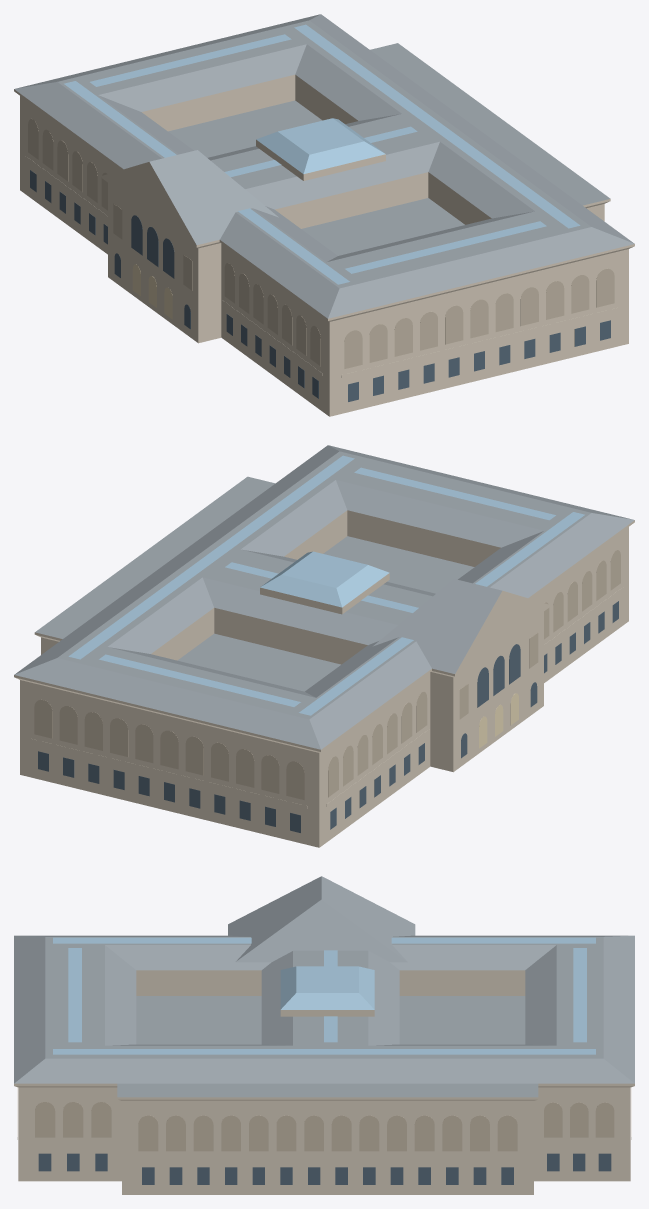
The model's file is chi-art-institute.glb.
The picture shows the model from 3 angles, top to bottom: view 1: azimuth 30°, elevation 25°; view 2: azimuth 150°, elevation 25°; view 3: azimuth 270°, elevation 25°; orthographic projection.
Visible parts, largest first — view 1: Art Institute of Chicago; view 2: Art Institute of Chicago; view 3: Art Institute of Chicago.
Boxes of the visible parts, x1=… form: Art Institute of Chicago: x1=14, y1=14, x2=634, y2=416; Art Institute of Chicago: x1=14, y1=445, x2=634, y2=847; Art Institute of Chicago: x1=14, y1=876, x2=634, y2=1194.
Size of the model in its own units: 65.2 by 26 by 99.
